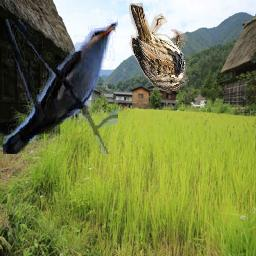Cuckoo: (4, 20, 119, 155)
Sparrow: (129, 4, 189, 93)
